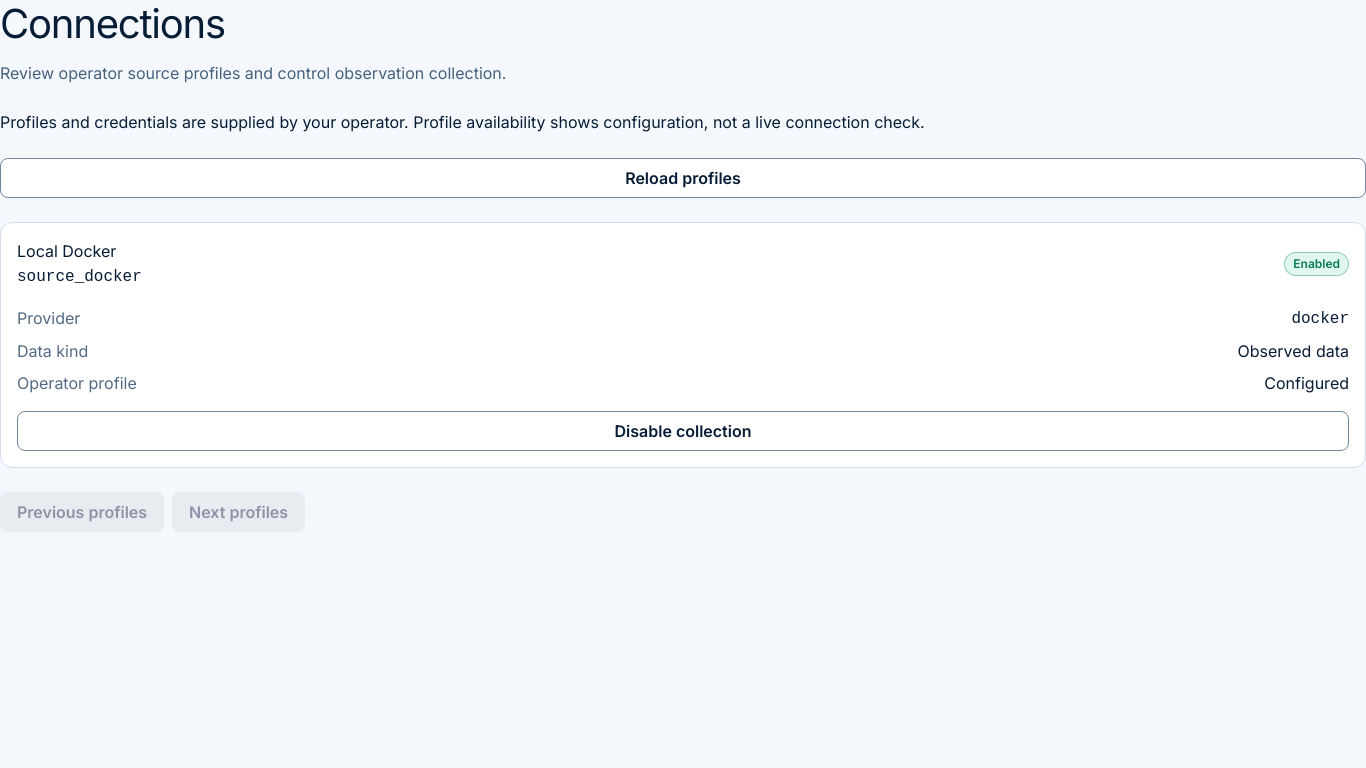
it: operator source settings › blocks locally expired confirmation before requesting a write
The width and height of the screenshot is (1366, 768).
Click the button with aria-label "Disable collection for Local Docker": coordinates (683, 431) top-left (17, 411), bottom-right (1349, 451)
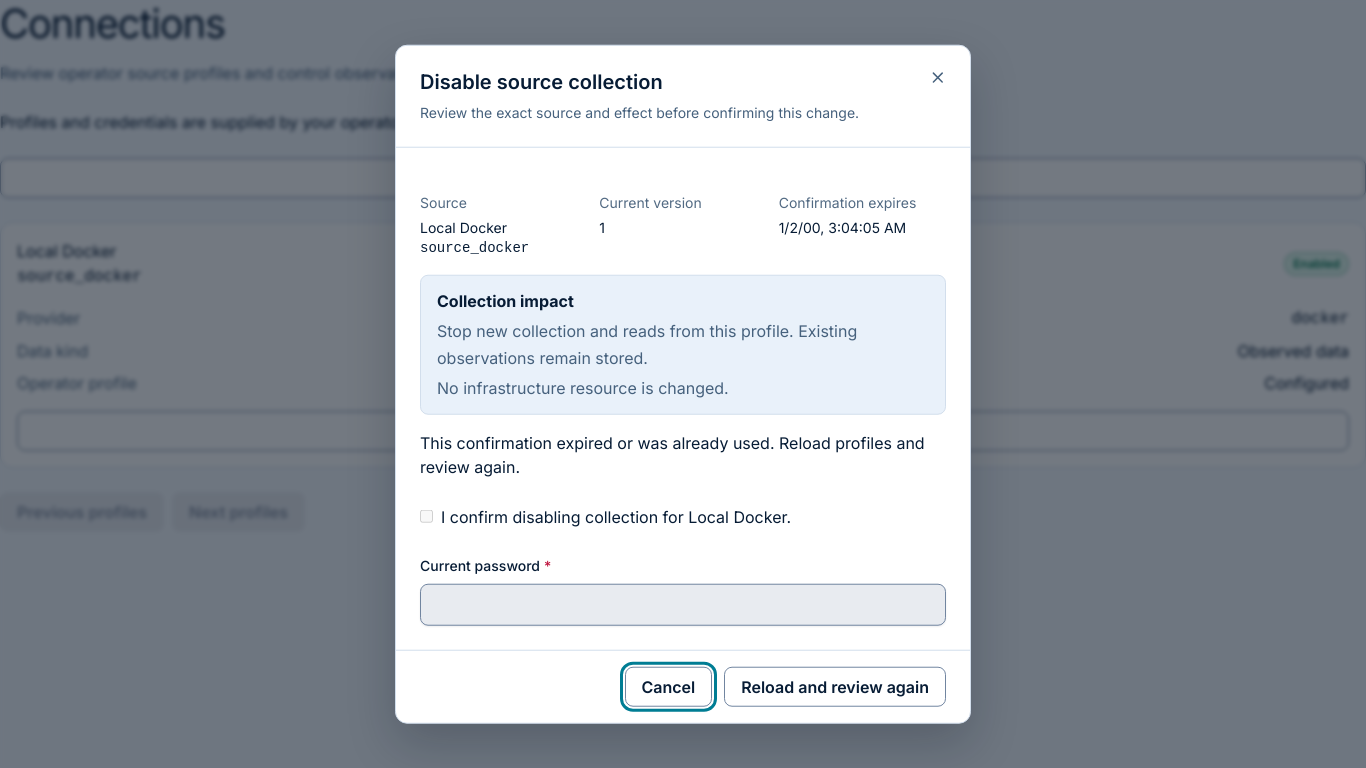
expect the message shows "This confirmation expired": met, box top-left (420, 432), bottom-right (925, 476)
